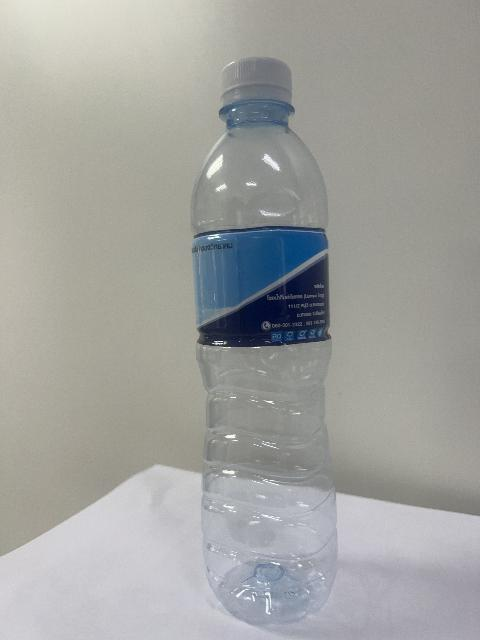bottle: (192, 58, 336, 623)
